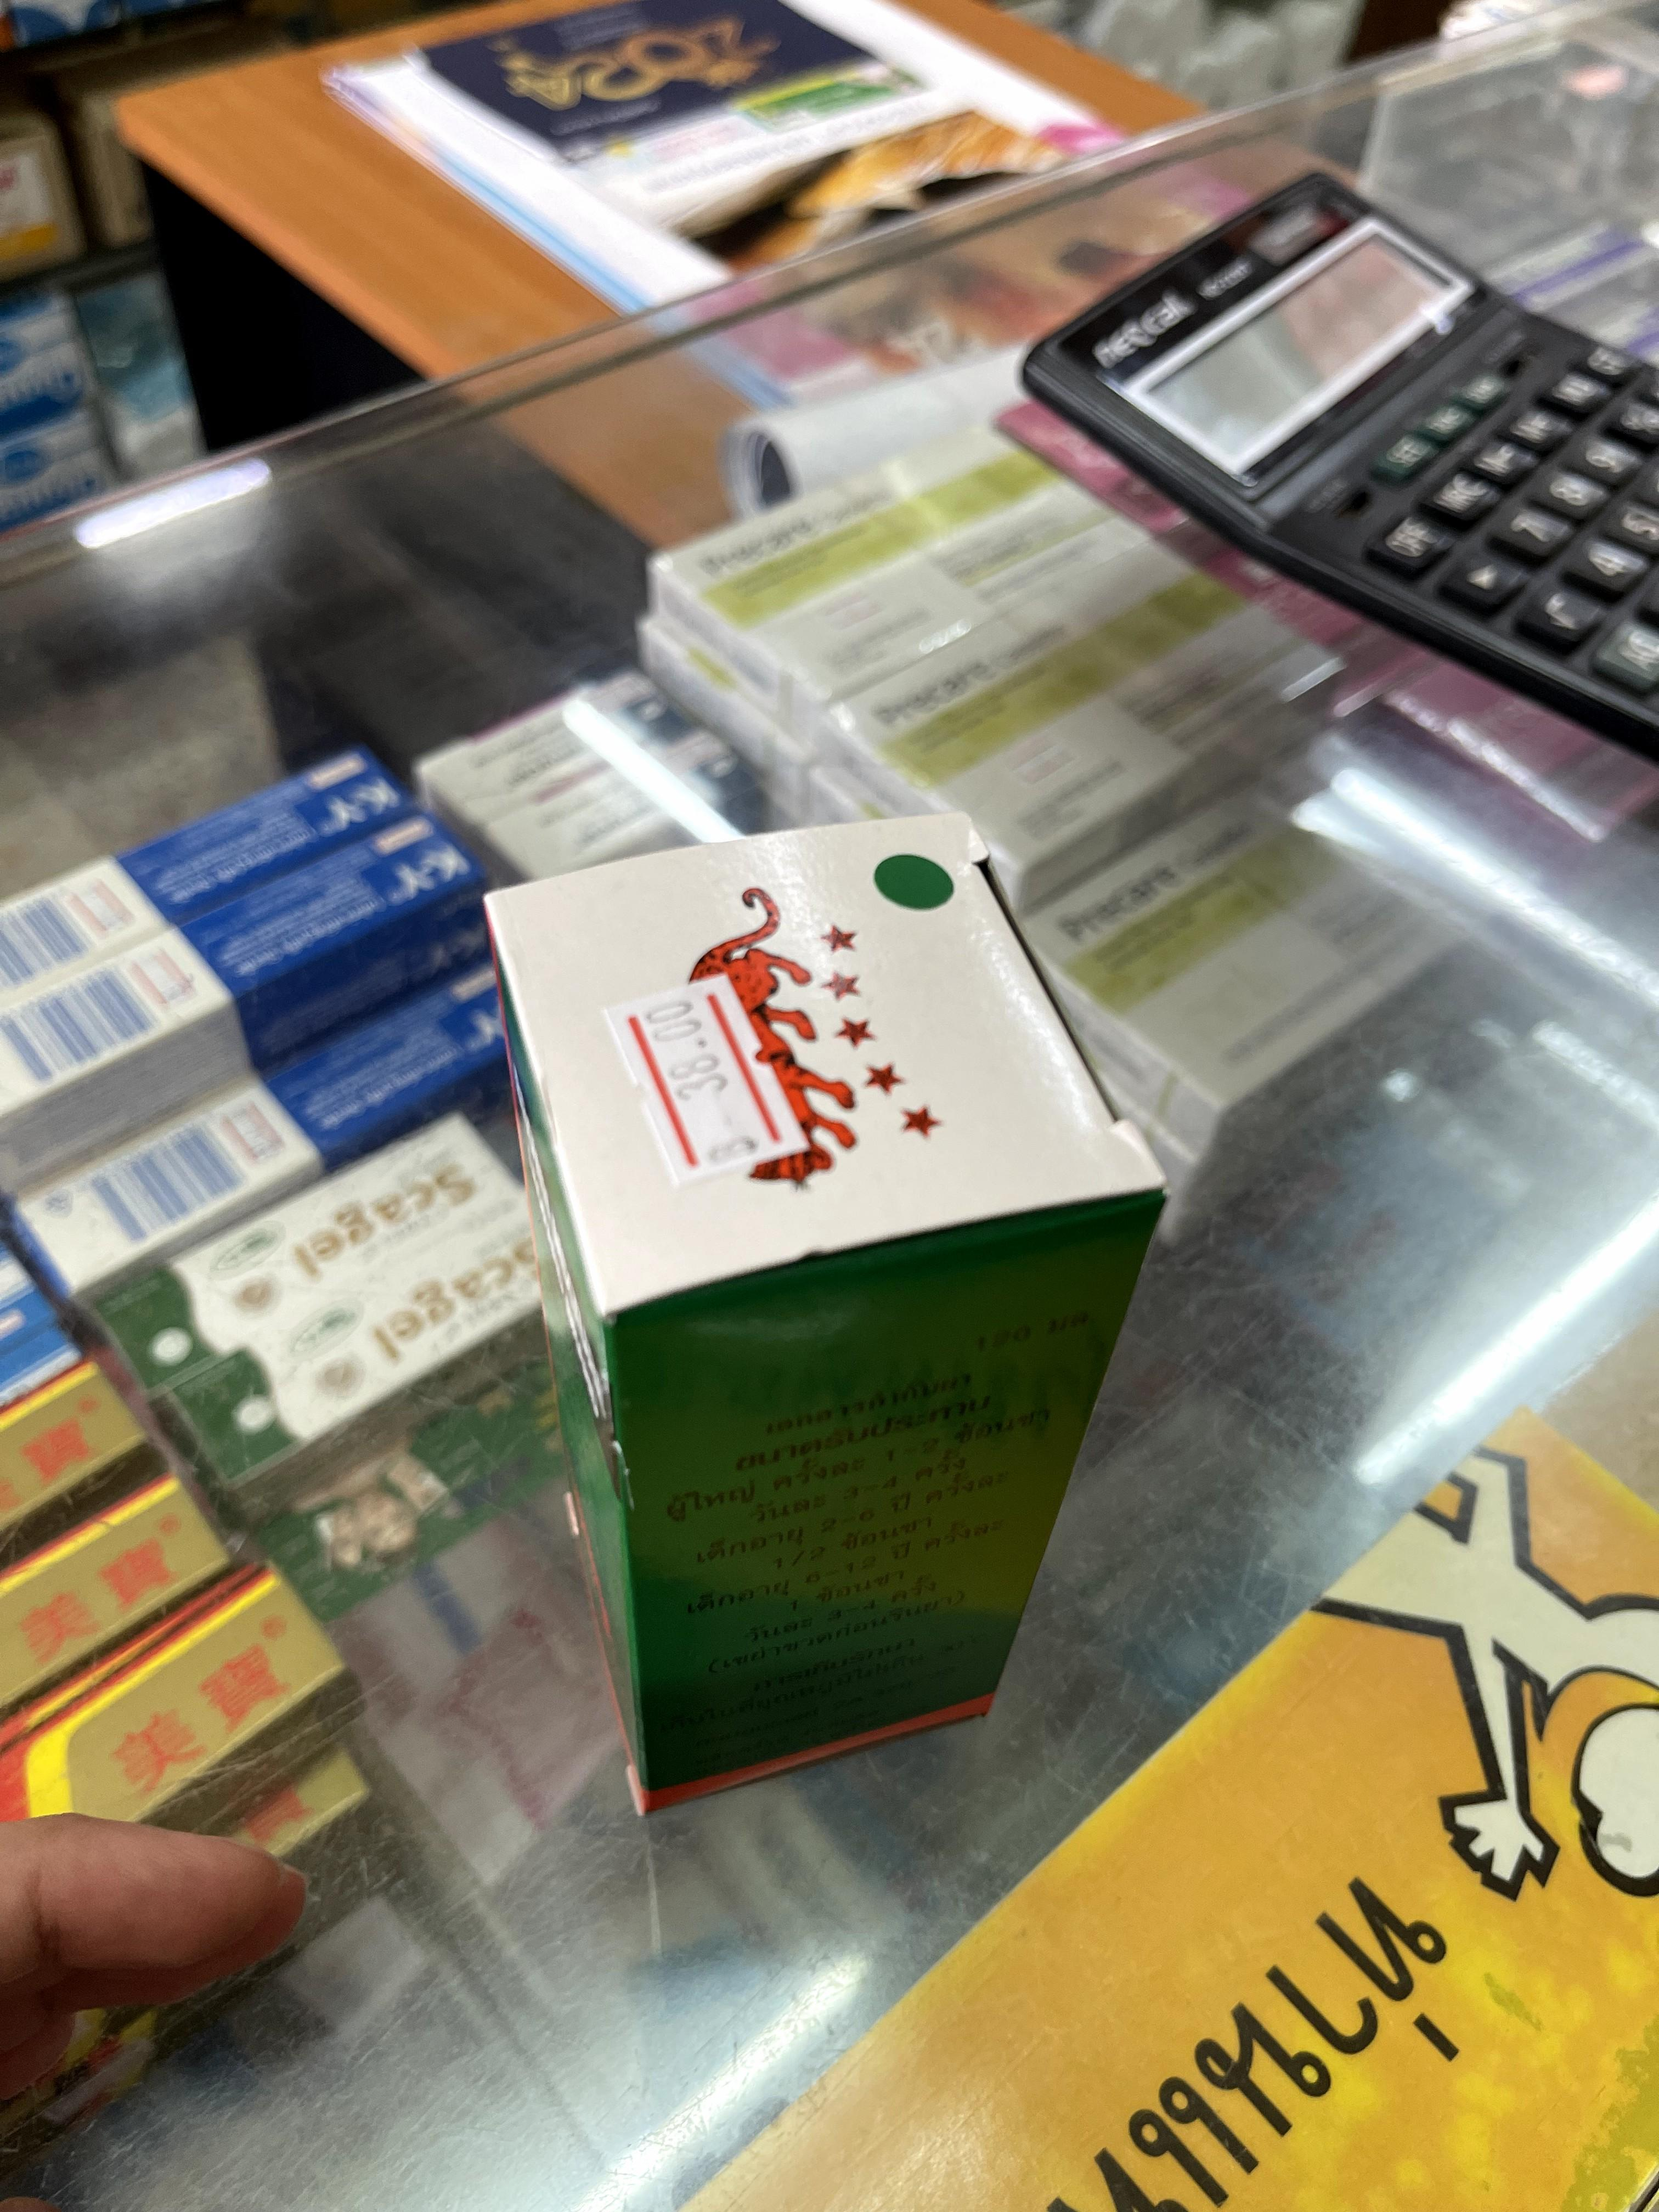Black-Tiger_Big: (479, 831, 1162, 1794)
